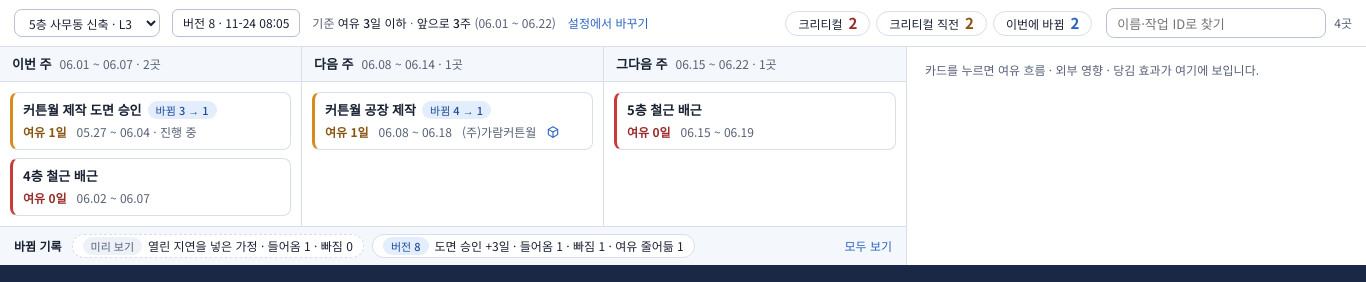
search narrows the cards by name or id
Expected: the element "이번 주" is shown, [0,47,302,226]
In the search field named "포인트 찾기": (1216, 23) [1106,8,1326,38], type "커튼월"
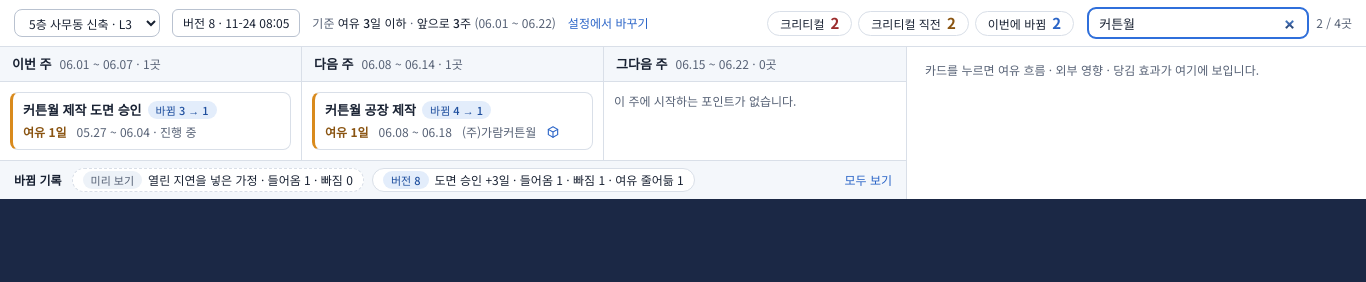
Expected: the text "2 / 4곳" is shown, [1316,14,1352,32]
Expected: the text "이 주에 시작하는 포인트가 없습니다." is shown, [614,92,796,109]
